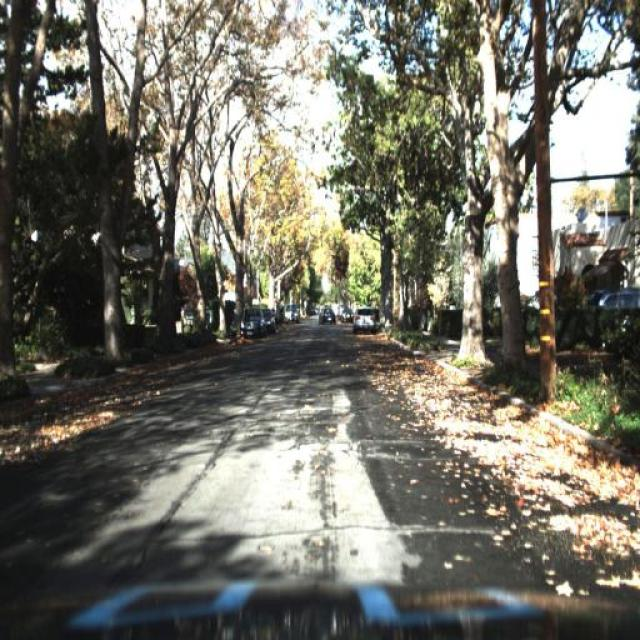car: (234, 308, 266, 342), (352, 305, 378, 337), (283, 297, 301, 324), (314, 304, 337, 324), (338, 304, 358, 326), (263, 300, 276, 332)
